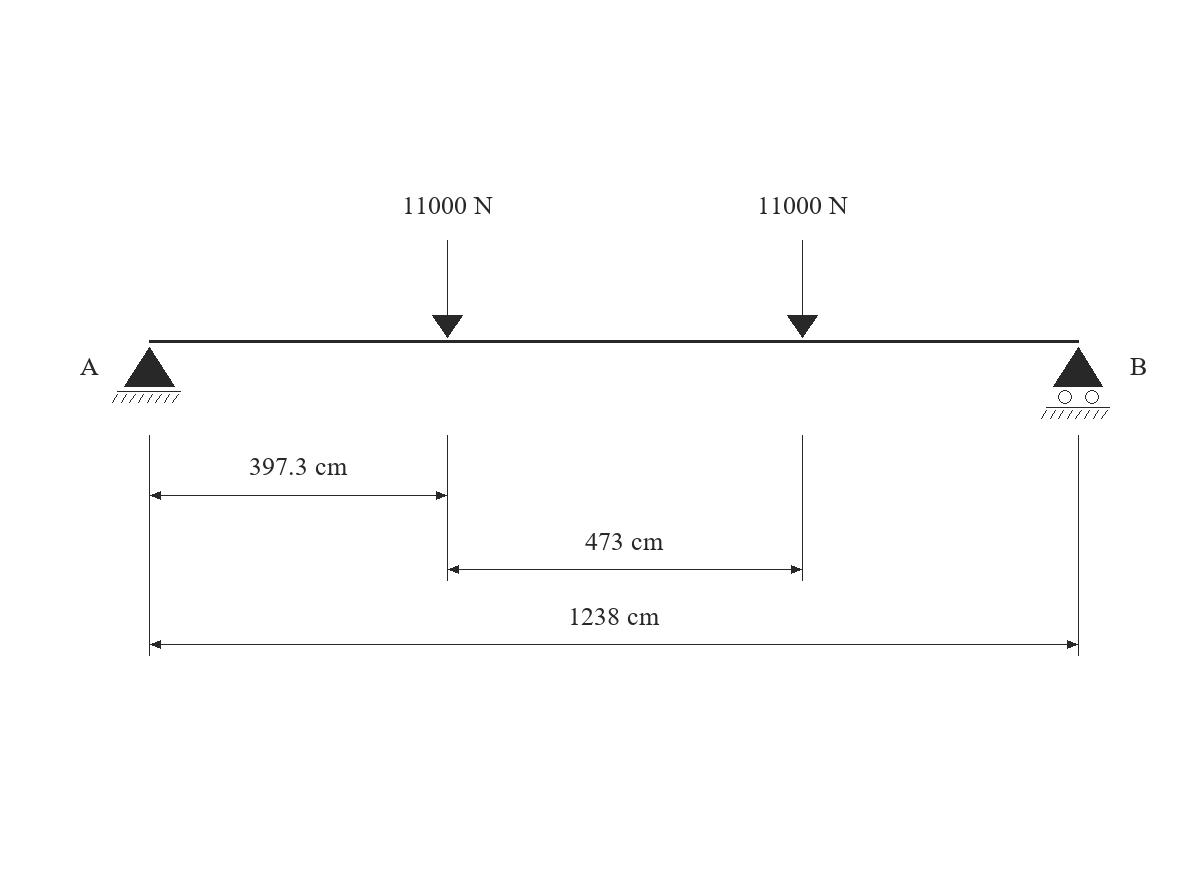pin_support: (112, 347, 181, 403)
point_load: (432, 240, 463, 338), (787, 240, 818, 338)
roller_support: (1041, 347, 1110, 419)
